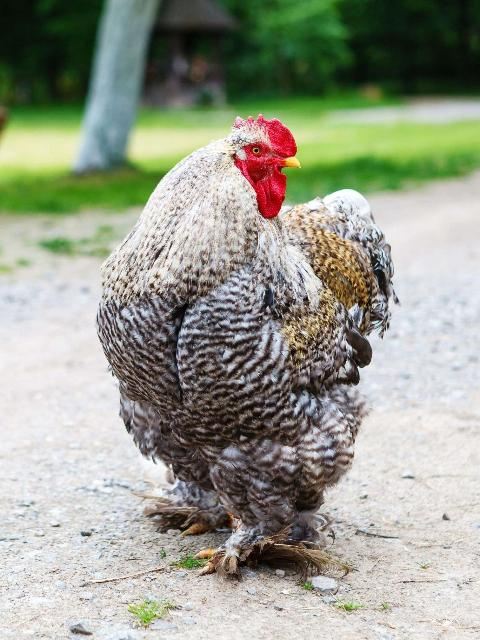Chicken: (95, 113, 399, 583)
